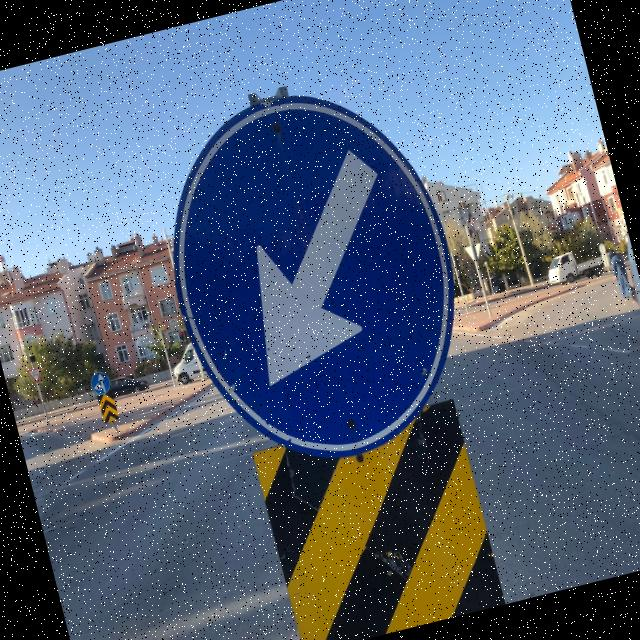compulsory_keep_right: (131, 53, 494, 490)
